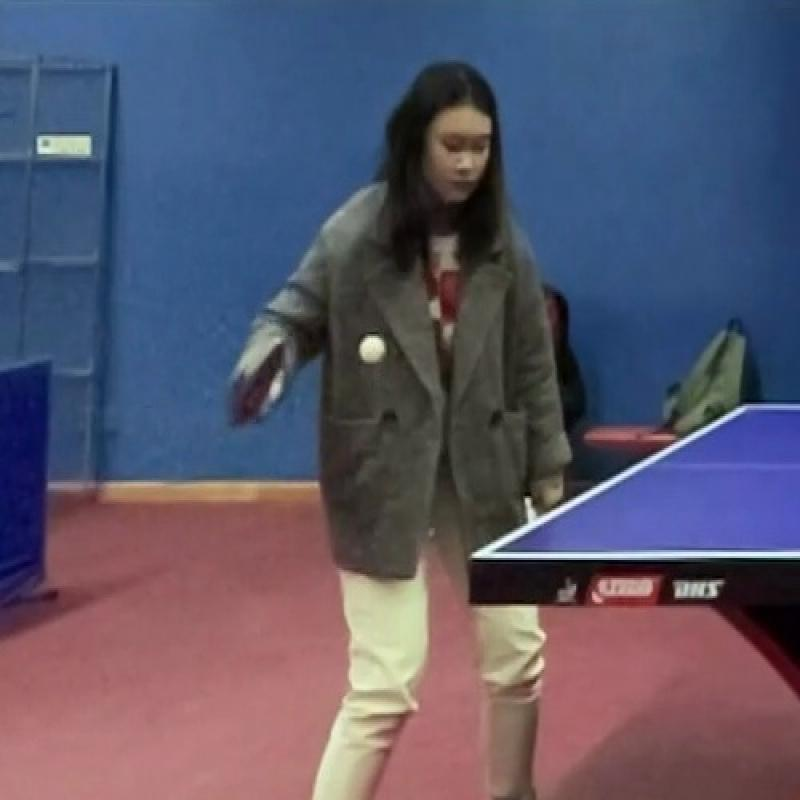bats: (222, 334, 304, 434)
